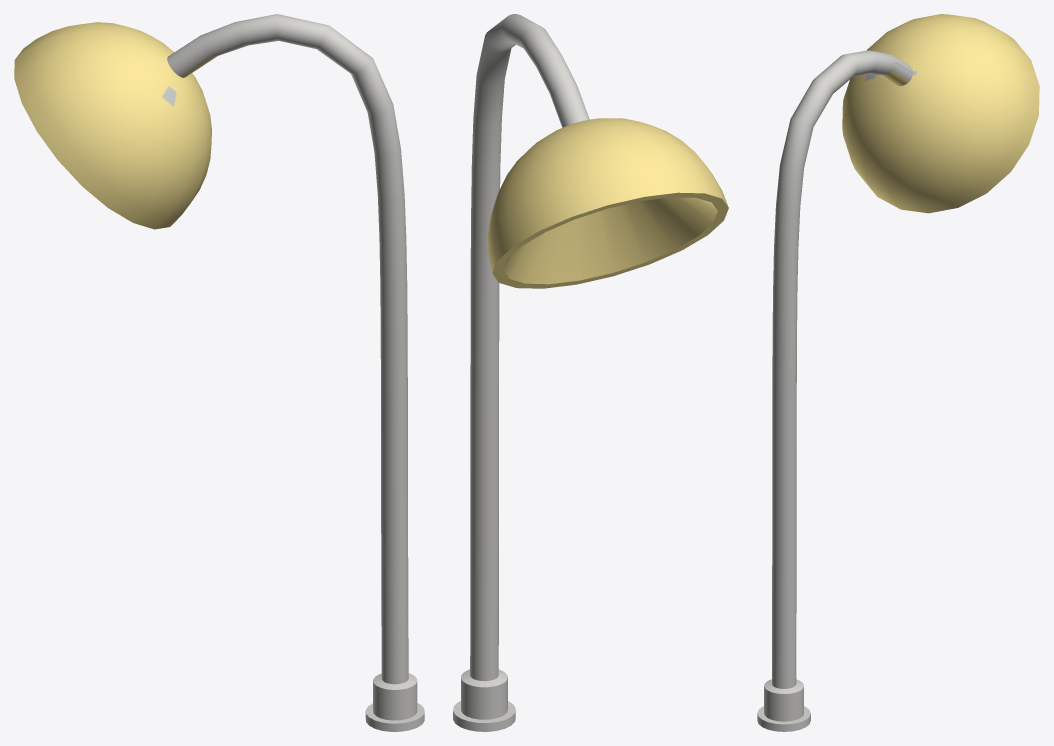
Rendered from standingLight.fbx.
3 views of the same model, side by side, from view 1: azimuth 30°, elevation 25°; view 2: azimuth 150°, elevation 25°; view 3: azimuth 270°, elevation 25° (orthographic). The views are drawn at different scales.
Visible parts, largest first — view 1: pCylinder12; view 2: pCylinder12; view 3: pCylinder12.
Boxes of the visible parts, x1=… form: pCylinder12: x1=14, y1=14, x2=424, y2=731; pCylinder12: x1=453, y1=14, x2=728, y2=731; pCylinder12: x1=757, y1=14, x2=1039, y2=731.
Bounding box in the file's own units: 112 × 235 × 95.49.
Materials: 1 (1 with a texture image).
